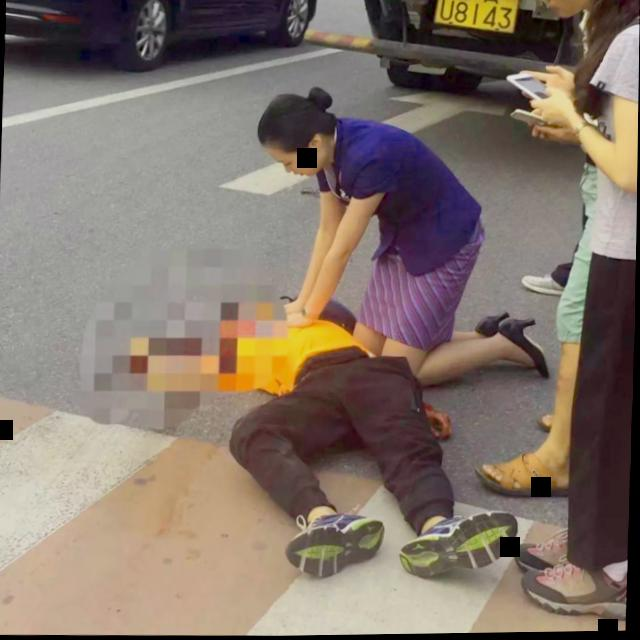Fall-Detected: (145, 239, 562, 600)
